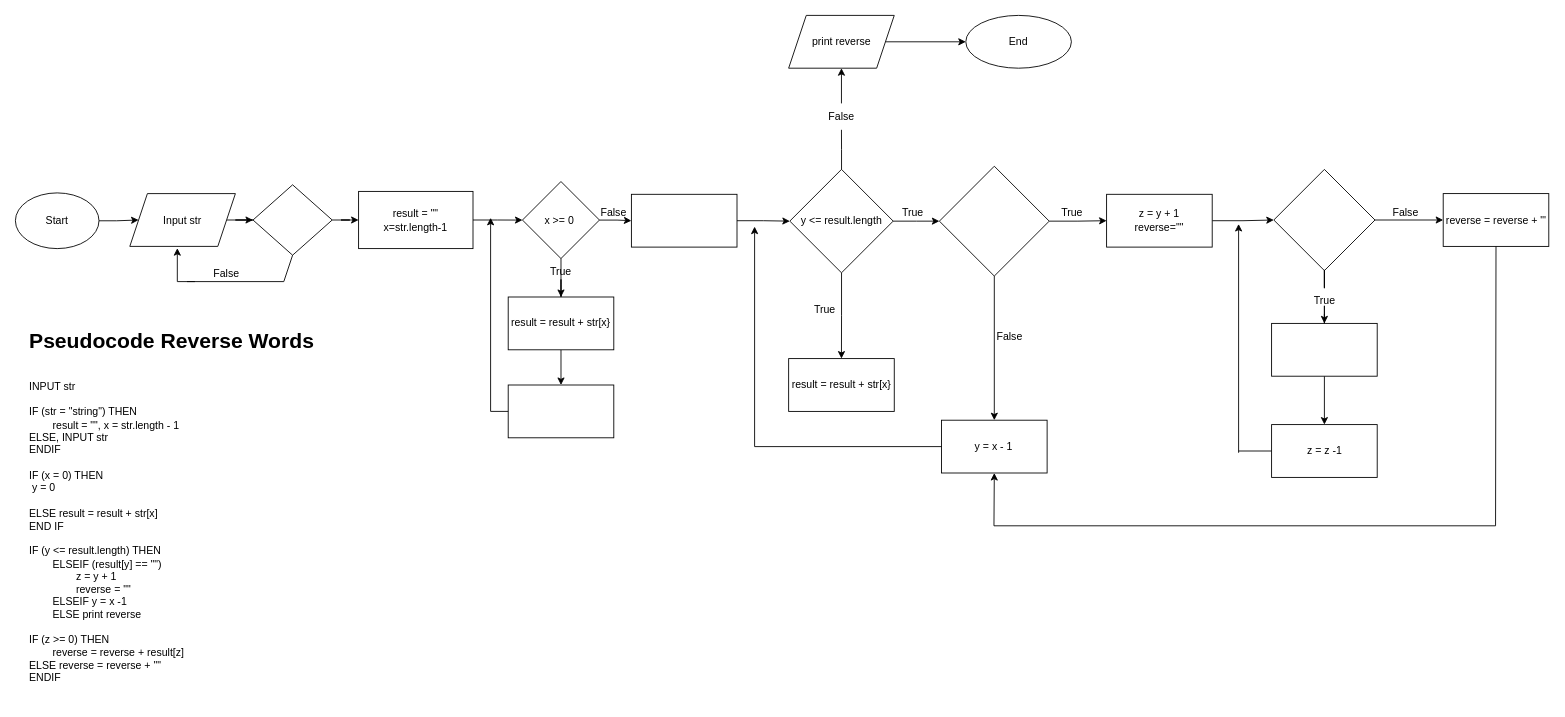
Some shapes in this 1565 by 717 pixel diagram are drawn without their labels. The shapes that lost their labels are listed below. From the top down, each one's box as (x1, y1, x2, y2) in pixels, then its label:
(252, 184, 332, 255): If str = "string"
(631, 193, 737, 247): y = 0
(939, 165, 1049, 276): result[y] == " "
(1273, 169, 1375, 271): z >= 0
(1271, 323, 1377, 376): reverse = reverse + result[z]
(507, 384, 614, 438): x = x - 1
